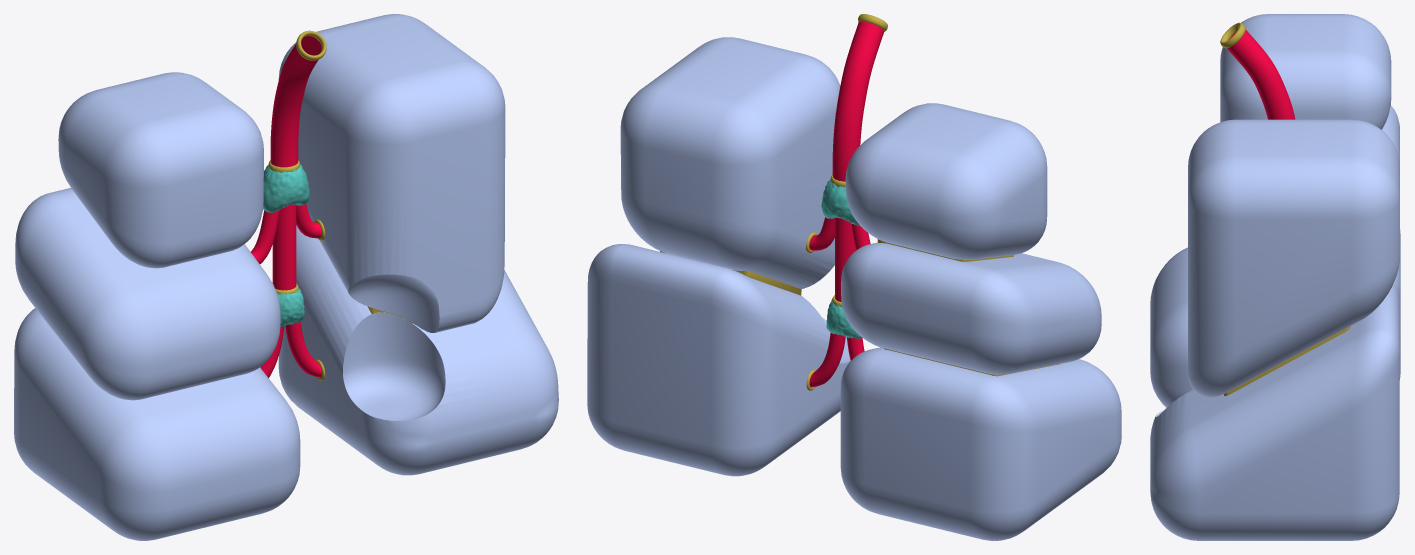
Rendered from płuca4.glb.
3 views of the same model, side by side, from view 1: azimuth 30°, elevation 25°; view 2: azimuth 150°, elevation 25°; view 3: azimuth 270°, elevation 25° (orthographic). The views are drawn at different scales.
Parts seen in each view (by area): view 1: zasobniki, tchawica, rozdzielacze, uszczelki; view 2: zasobniki, tchawica, rozdzielacze, uszczelki; view 3: zasobniki, tchawica, uszczelki.
Boxes of the visible parts, x1,y1,x2,y2 form: zasobniki: (14, 14, 558, 540); tchawica: (251, 36, 321, 377); rozdzielacze: (263, 164, 309, 326); uszczelki: (268, 30, 412, 380); zasobniki: (587, 37, 1121, 540); tchawica: (809, 21, 884, 387); rozdzielacze: (821, 179, 861, 339); uszczelki: (660, 14, 1059, 390); zasobniki: (1150, 14, 1400, 540); tchawica: (1227, 30, 1295, 119); uszczelki: (1220, 22, 1350, 395).
Size of the model in its own units: 2.08 by 1.95 by 1.04.
